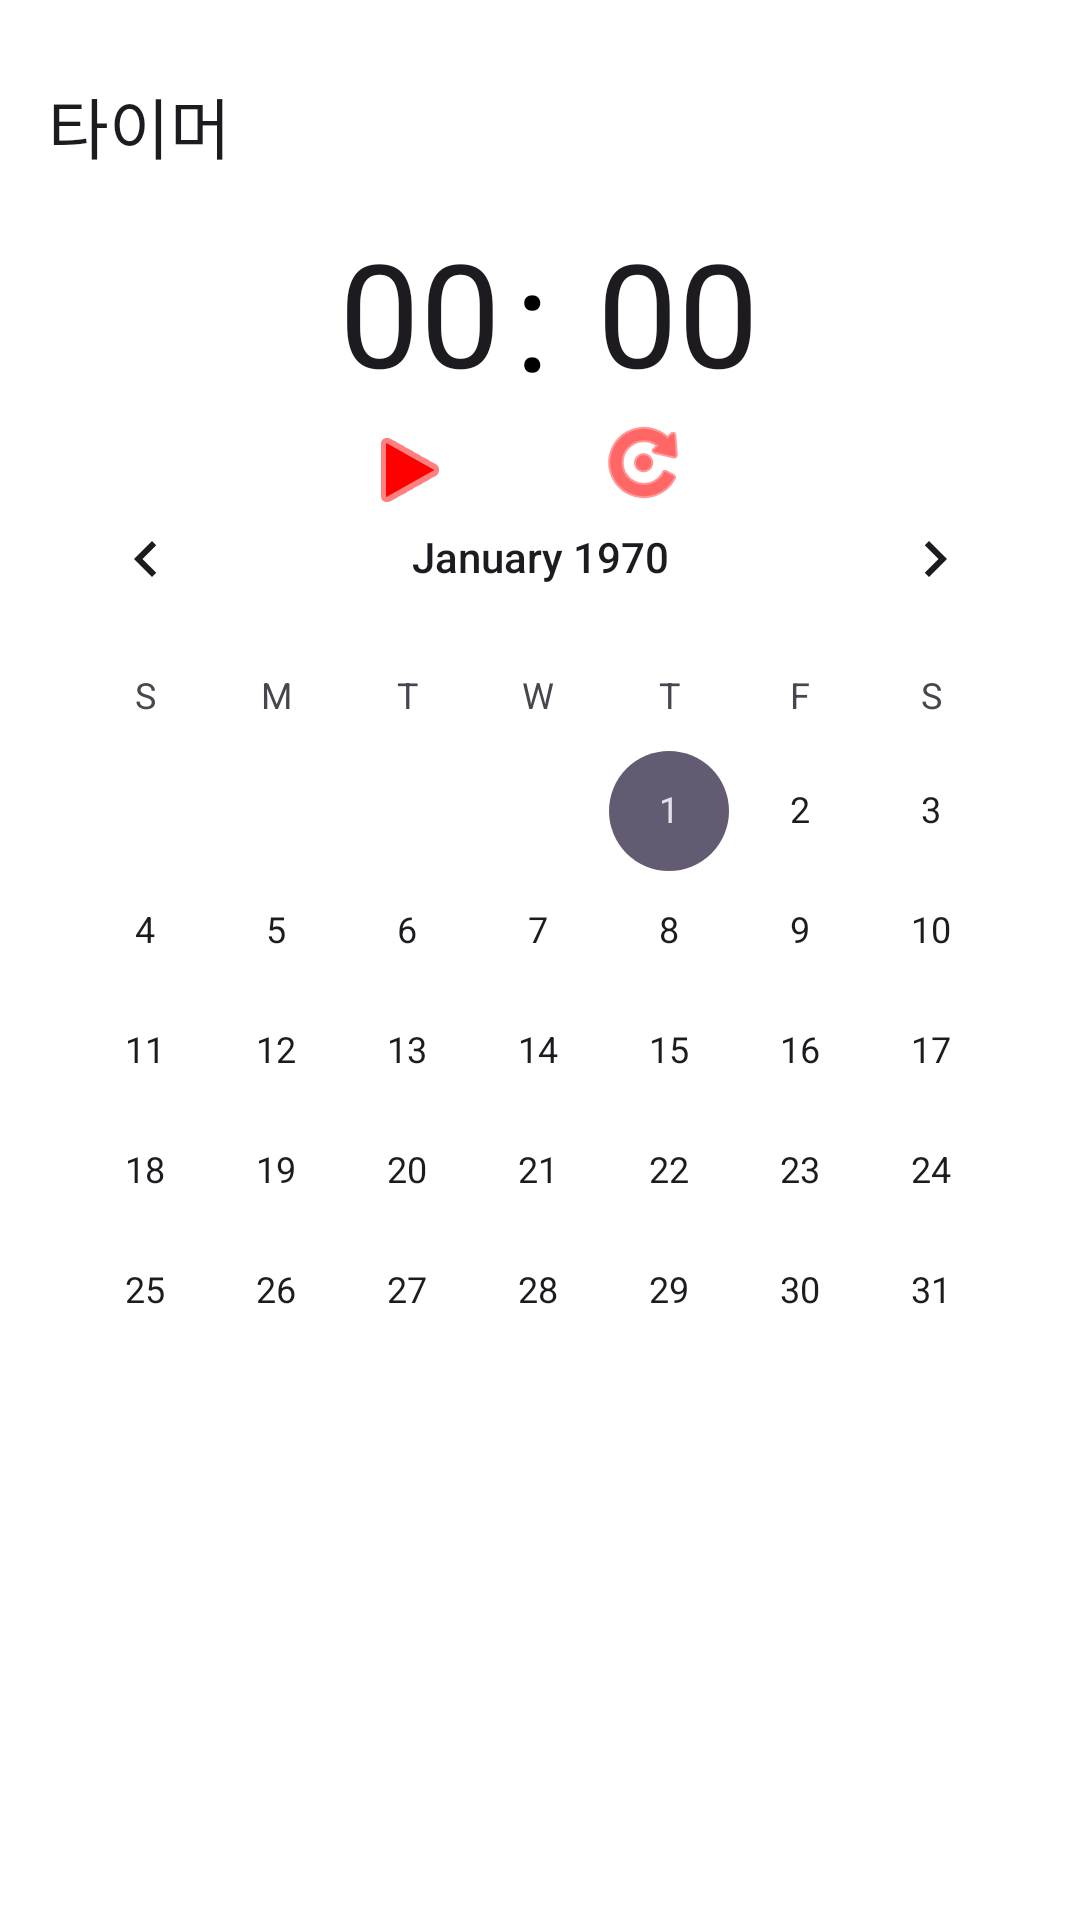

Locate icon controls on the screen. Image size 1080*1920, boxes as (x1, y1, x2, y2).
play: (381, 438, 439, 502)
rotate: (608, 427, 678, 498)
